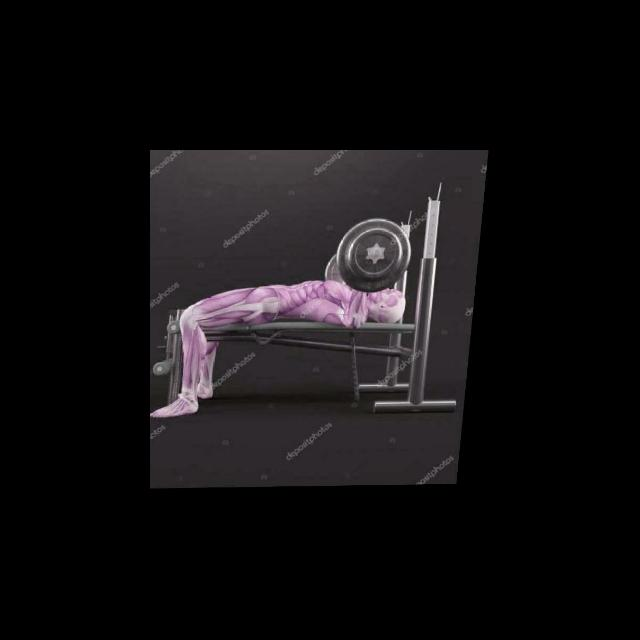barbell: (334, 216, 417, 296)
